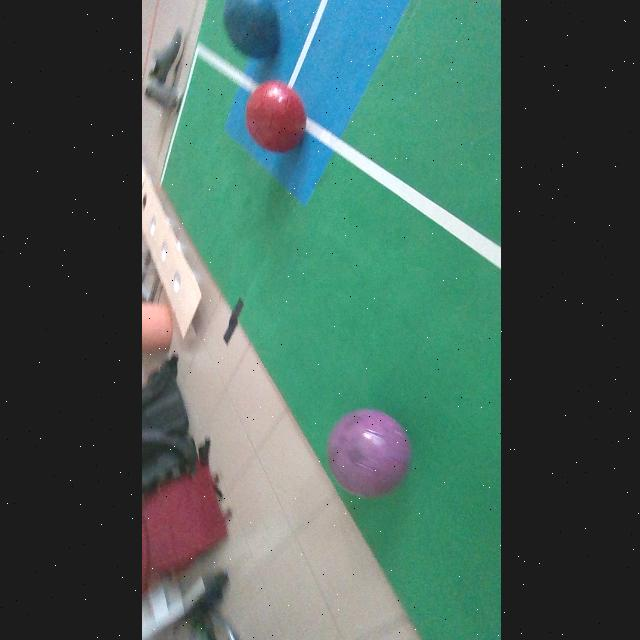B: (222, 0, 277, 59)
P: (326, 409, 409, 497)
R: (244, 80, 304, 153)
